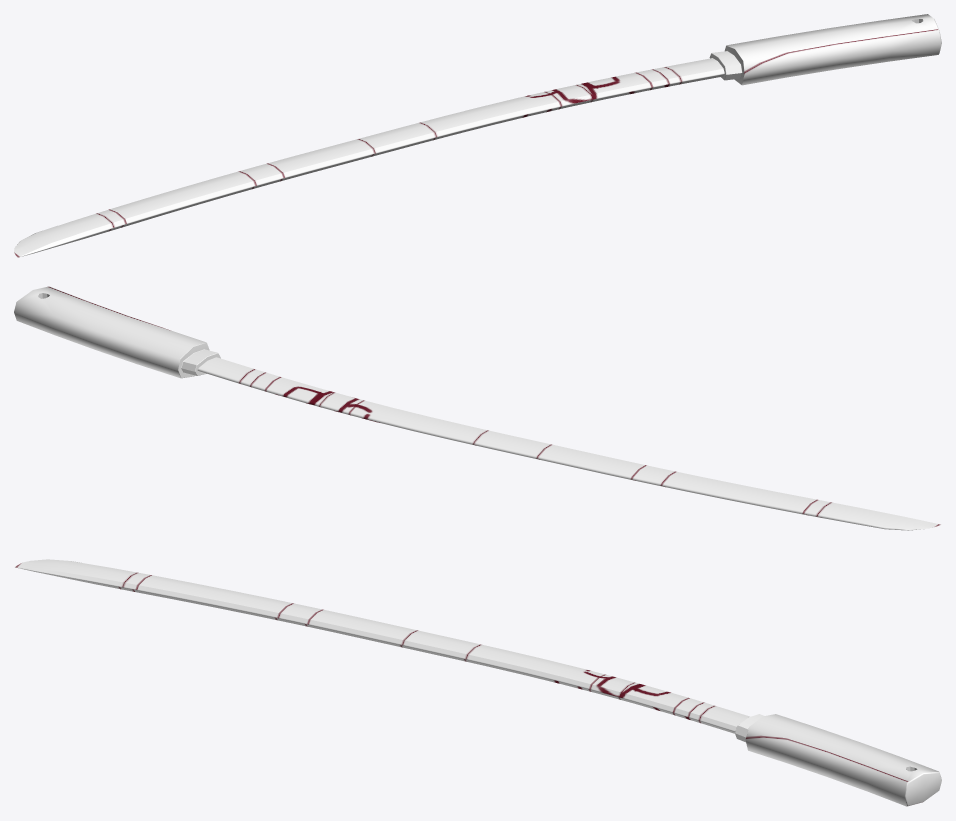
The model's file is Katana.fbx.
3 views of the same model, one above another, from view 1: azimuth 30°, elevation 25°; view 2: azimuth 150°, elevation 25°; view 3: azimuth 330°, elevation 25° (orthographic).
Parts seen in each view (by area): view 1: Katana; view 2: Katana; view 3: Katana.
Boxes of the visible parts, x1,y1,x2,y2 form: Katana: (14,14,941,257); Katana: (14,286,941,530); Katana: (14,559,941,806).
Bounding box in the file's own units: 135 × 4.15 × 12.38.
1 material, 1 textured.
